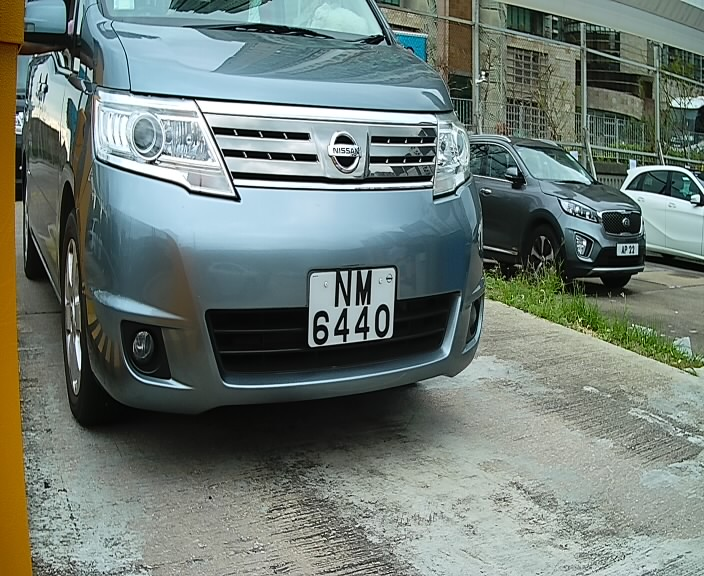License Plate: (299, 256, 405, 358)
